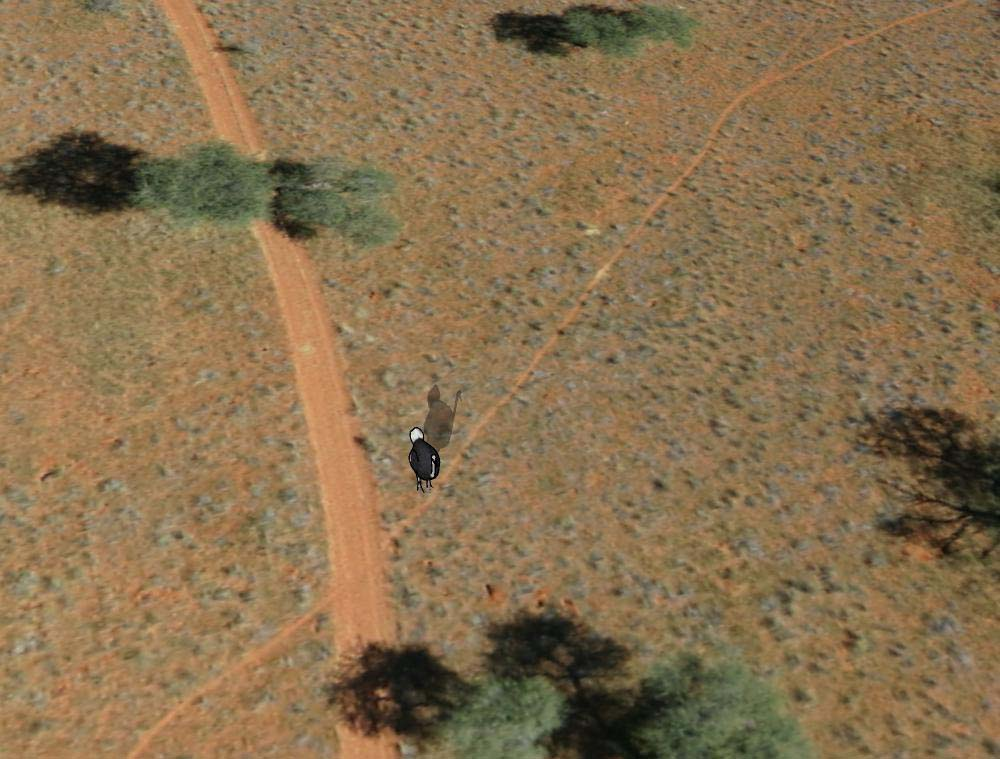springbok: (404, 428, 442, 495)
